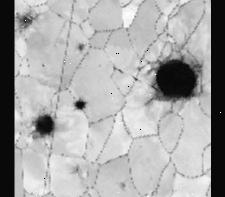good_void: (137, 43, 204, 107), (29, 109, 60, 141), (15, 9, 40, 35), (73, 95, 87, 114), (116, 178, 129, 192), (111, 65, 126, 77), (69, 164, 82, 177), (77, 38, 87, 51), (132, 75, 141, 85), (55, 12, 64, 19), (40, 62, 47, 69)
